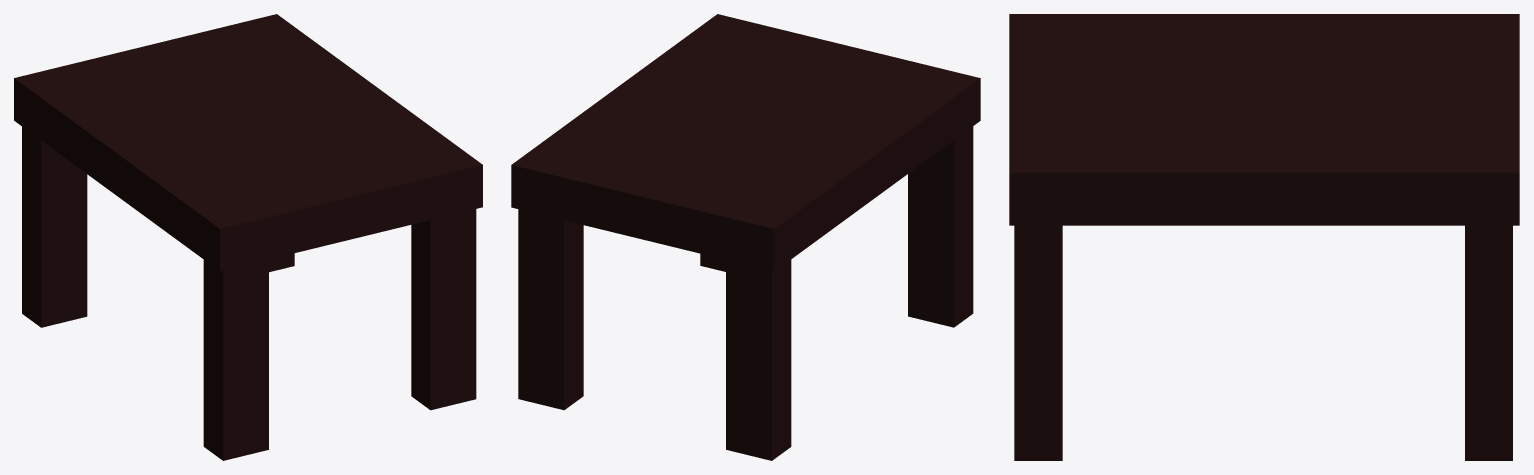
File: desk.fbx
3 views of the same model, side by side, from view 1: azimuth 30°, elevation 25°; view 2: azimuth 150°, elevation 25°; view 3: azimuth 270°, elevation 25° (orthographic). The views are drawn at different scales.
Visible parts, largest first — view 1: Cube, Cube.003; view 2: Cube, Cube.003; view 3: Cube, Cube.003.
Boxes of the visible parts, x1,y1,x2,y2 form: Cube: [14, 14, 482, 271]; Cube.003: [22, 126, 476, 460]; Cube: [511, 14, 980, 271]; Cube.003: [518, 126, 973, 460]; Cube: [1009, 14, 1519, 225]; Cube.003: [1014, 225, 1512, 460].
Size of the model in its own units: 565 by 482 by 767.
